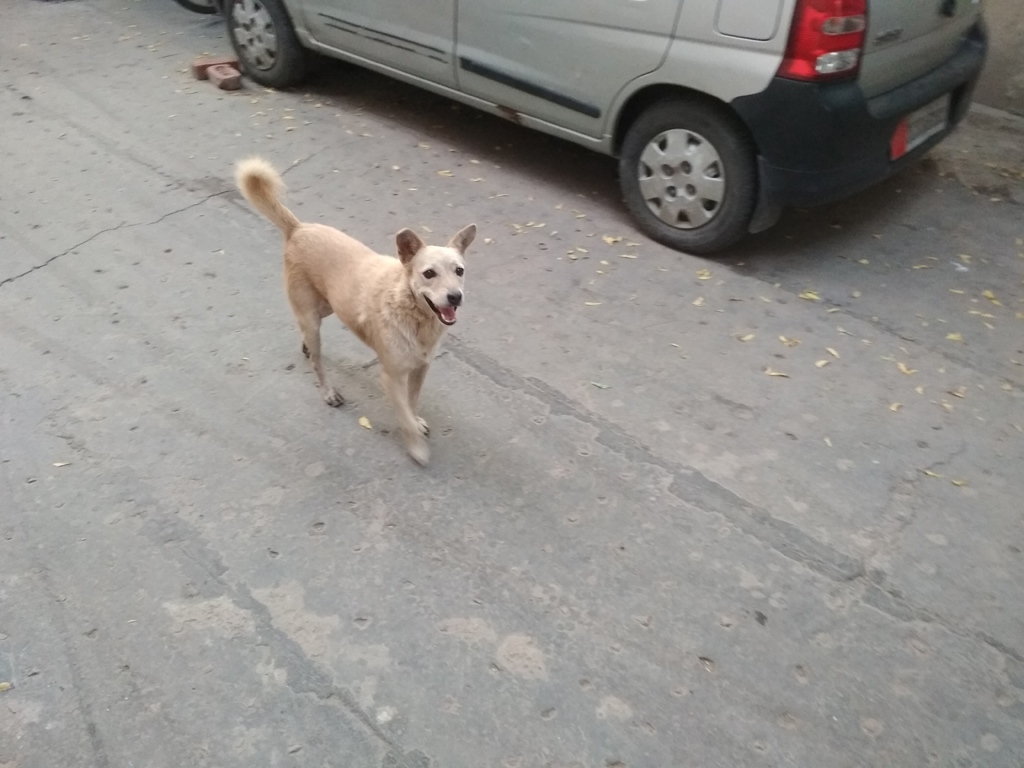dog: (236, 160, 479, 468)
